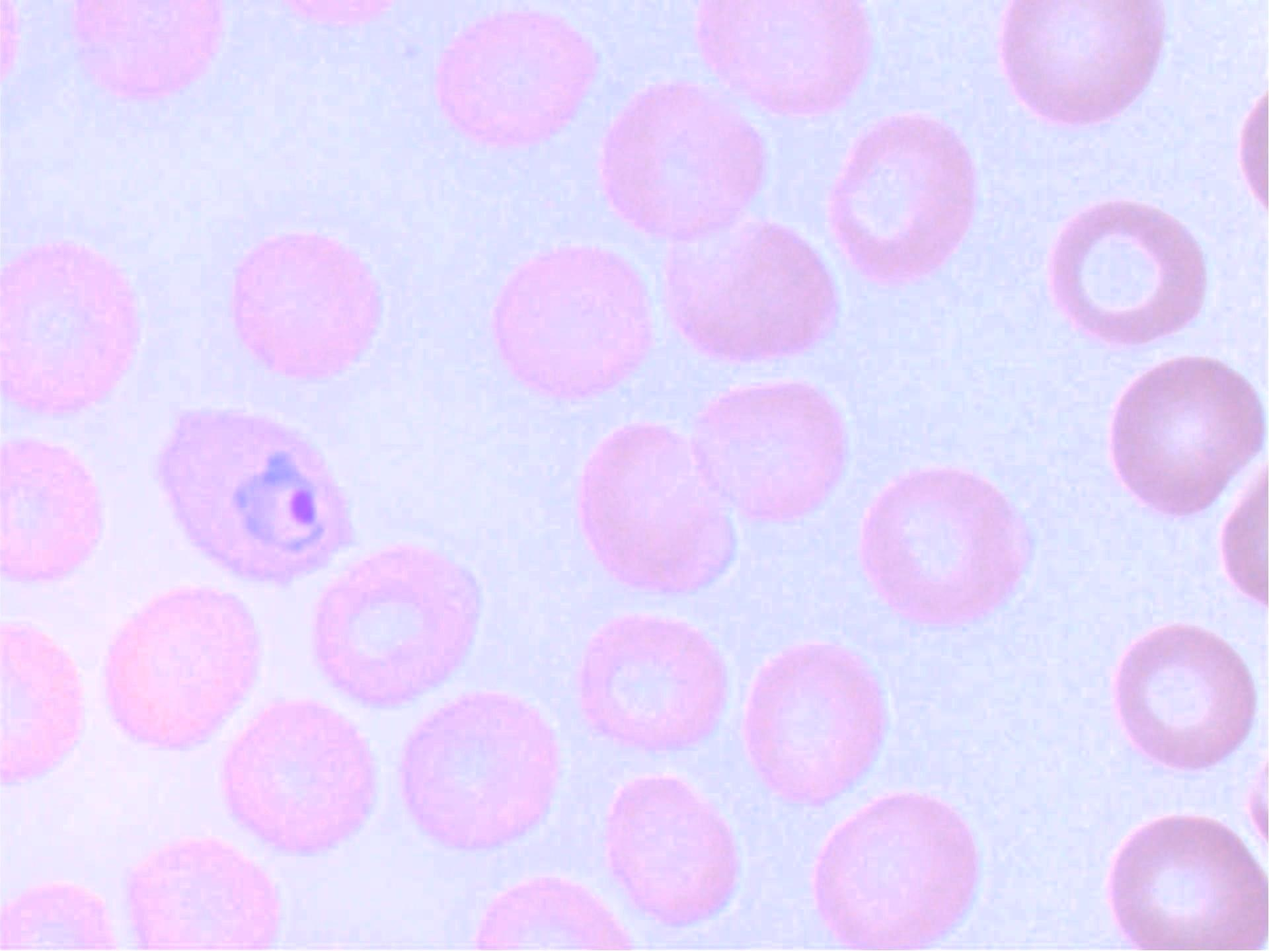Infected: (159, 408, 350, 580)
Uninfected: (578, 417, 742, 596), (863, 465, 1032, 627), (314, 541, 477, 704), (601, 80, 766, 239), (829, 111, 979, 283), (1107, 359, 1269, 515), (102, 587, 260, 746), (821, 792, 979, 951), (497, 243, 654, 398), (663, 223, 837, 362), (405, 691, 560, 845), (1049, 200, 1208, 347), (228, 696, 377, 851), (0, 243, 137, 411), (433, 10, 603, 145), (1109, 812, 1269, 951), (231, 231, 380, 380), (744, 640, 886, 796), (691, 382, 849, 515), (692, 0, 870, 118), (1001, 0, 1165, 128), (580, 614, 729, 753), (1114, 627, 1258, 770), (603, 774, 738, 925), (129, 836, 278, 951), (71, 0, 225, 102), (0, 438, 105, 581), (0, 627, 84, 783)
